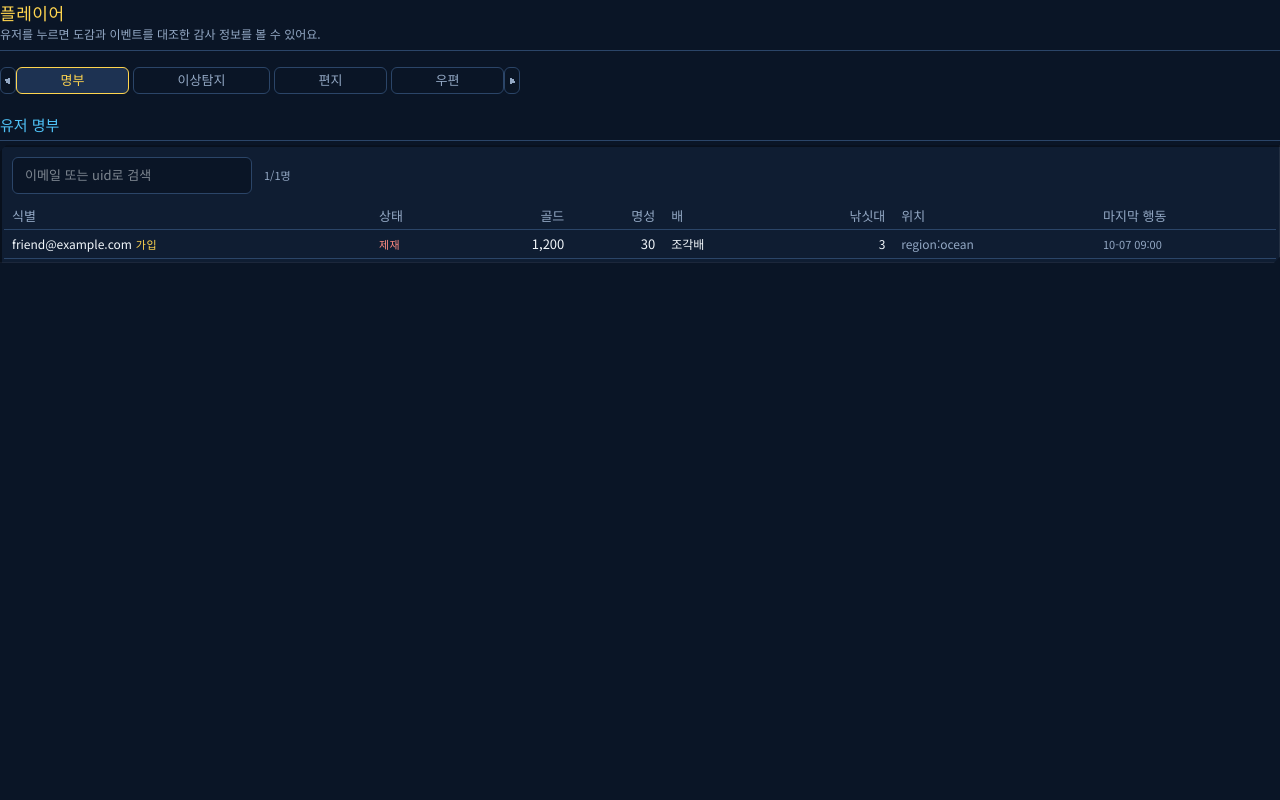
Test: 플레이어 탭 › 명부 구역 — 유저 행을 그리고, 누르면 상세 모달이 오목한 칸 밖에 뜬다
Expected: the text "1/1명" is shown, [264,167,291,184]
What coordinates should you click on to do the following:
click the text "friend@example.com"
I would click on:
 (72, 244)
Its box is [12,235,132,252].
(page scrolled)
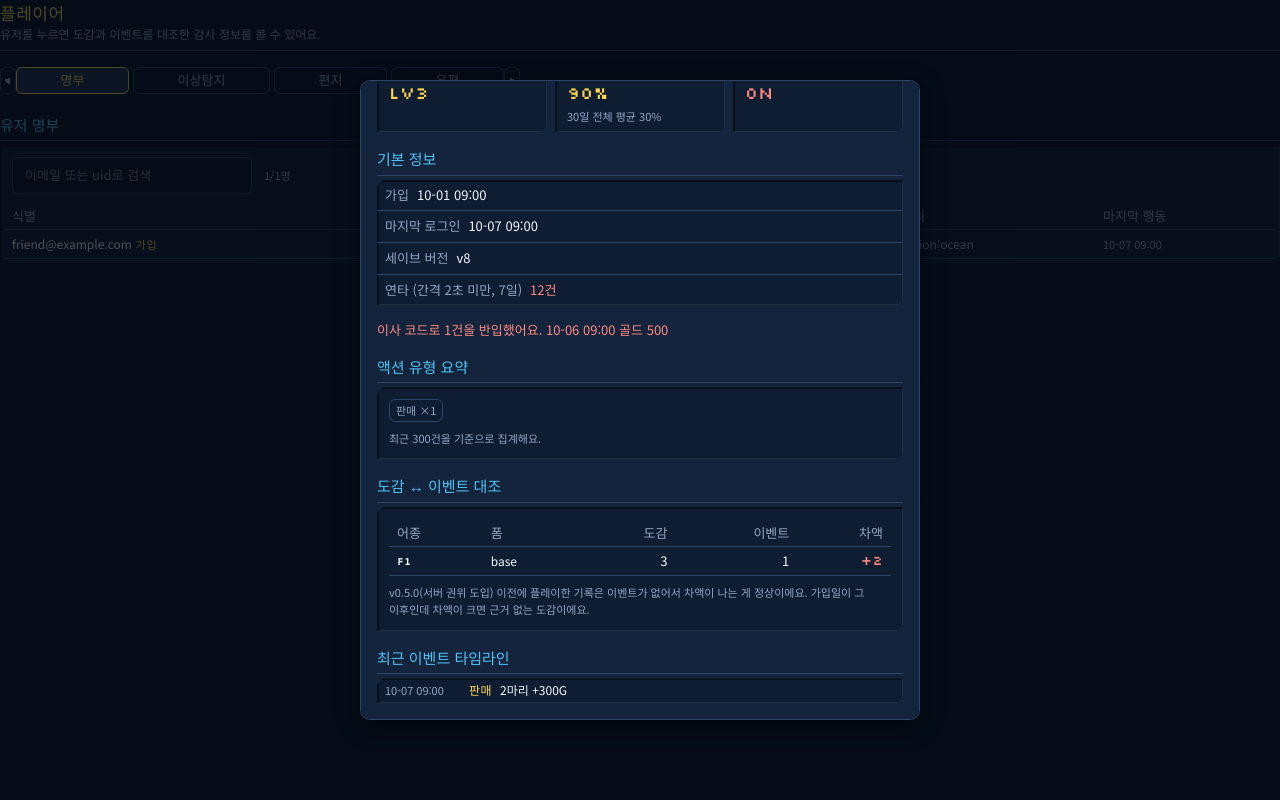
Result: the heading "도감 ↔ 이벤트 대조" is shown at [377,475,903,503]
Result: the text "판매" is shown at [469,683,492,699]
